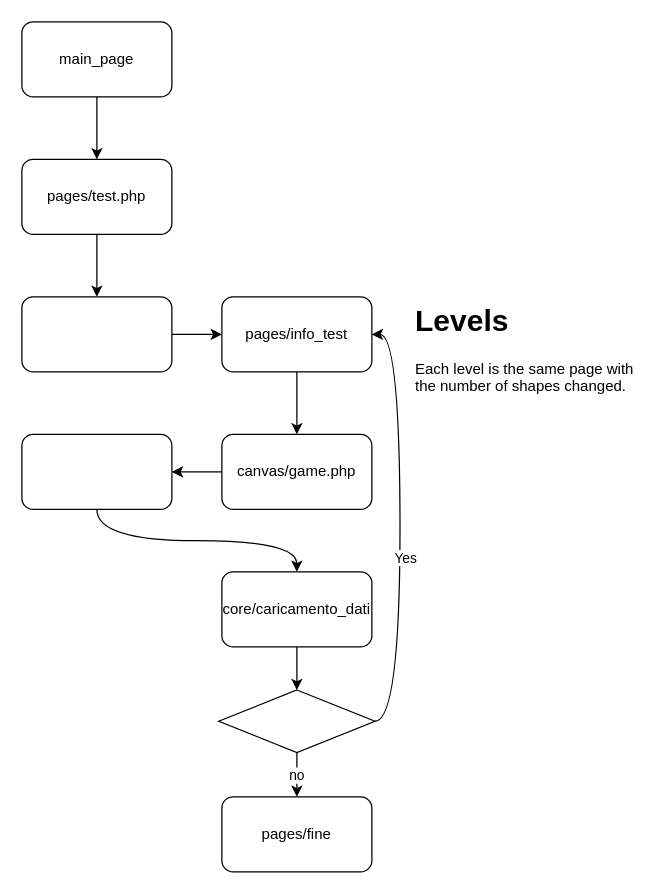
Some shapes in this 669 by 894 pixel diagram are drawn without their labels. Here are the shapes that lost their labels. From the top down, the box of each, then its label:
(21, 296, 172, 372): core/inserimento_dati
(21, 433, 172, 509): canvas/game.js
(218, 689, 375, 752): finish?
